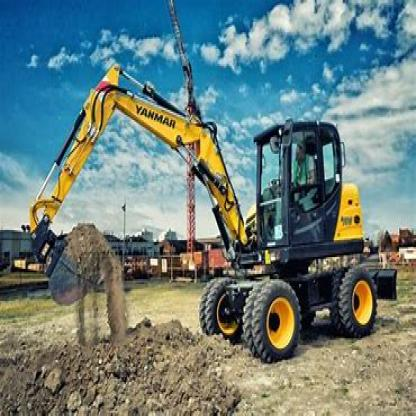excavator: (30, 46, 389, 336)
